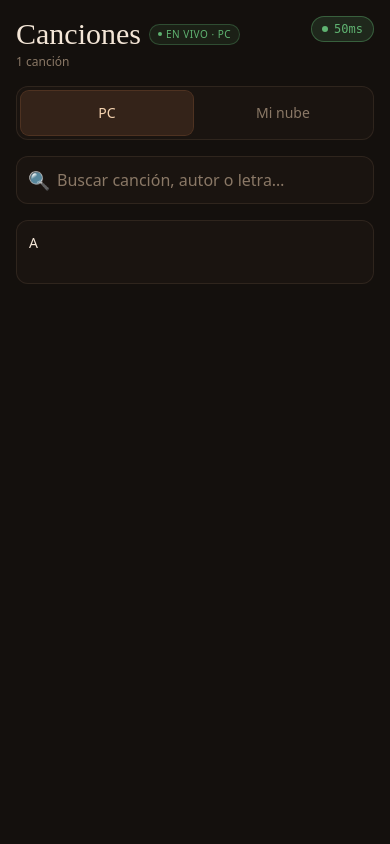
12. Esc cierra el sheet
The width and height of the screenshot is (390, 844).
Click the button named "Canción A".
click(33, 242)  # box [16,220,374,284]
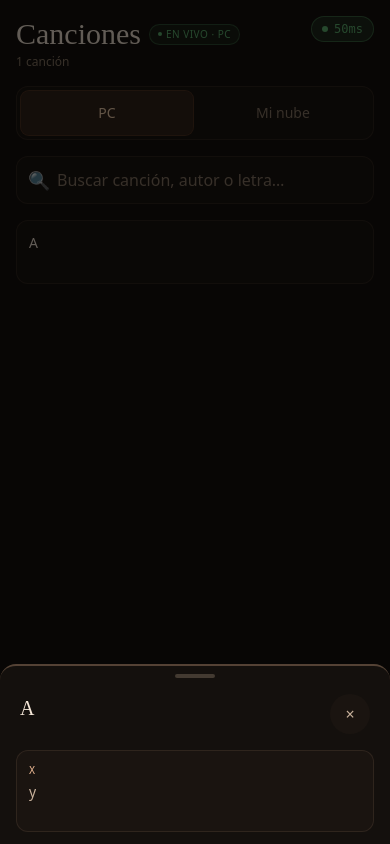
Check: the dialog is shown, box [0,664,389,843]
Press Escape
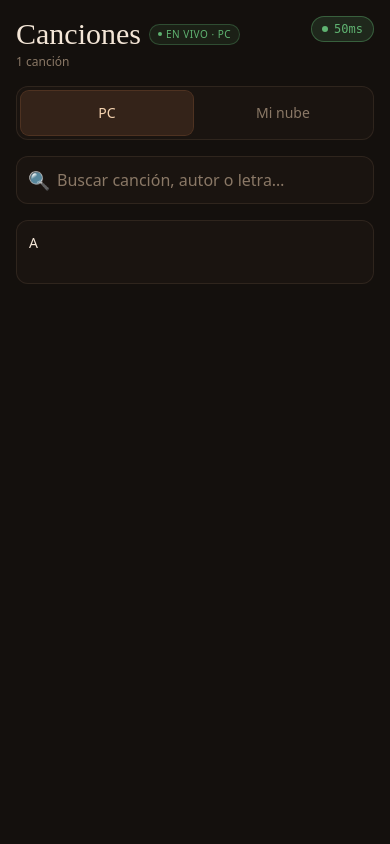
Check: the dialog is gone
